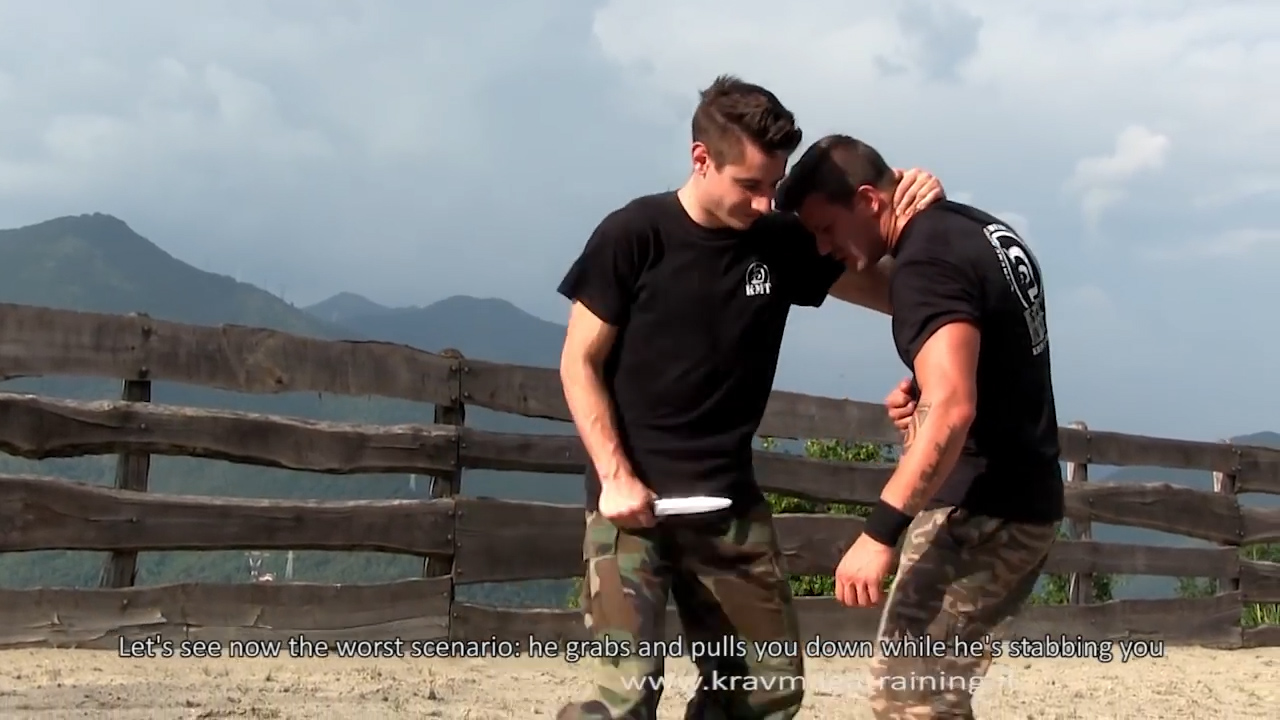knife: (593, 481, 739, 537)
